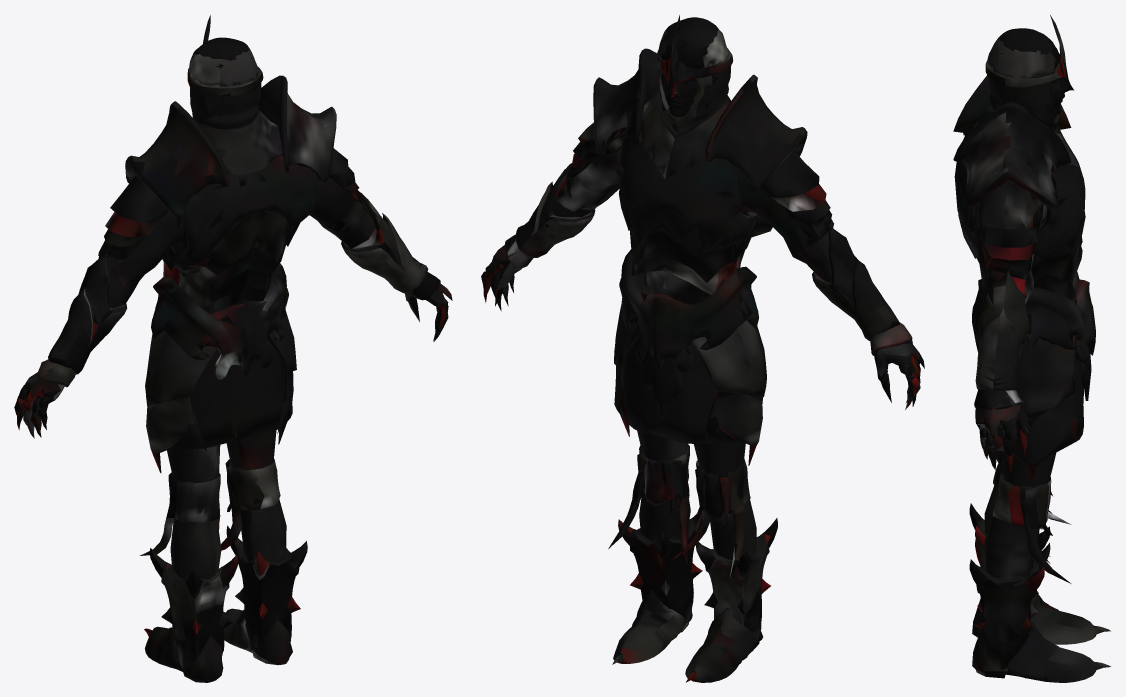
3 renders of one model, left to right at view 1: azimuth 30°, elevation 25°; view 2: azimuth 150°, elevation 25°; view 3: azimuth 270°, elevation 25°, orthographic.
Parts seen in each view (by area): view 1: mesh_0; view 2: mesh_0; view 3: mesh_0.
Part boxes in pixels (x1,y1,x2,y2): mesh_0: [14, 15, 452, 682]; mesh_0: [481, 15, 924, 682]; mesh_0: [953, 15, 1110, 682].
Bounding box in the file's own units: 54.07 × 76 × 17.
1 material, 1 textured.
